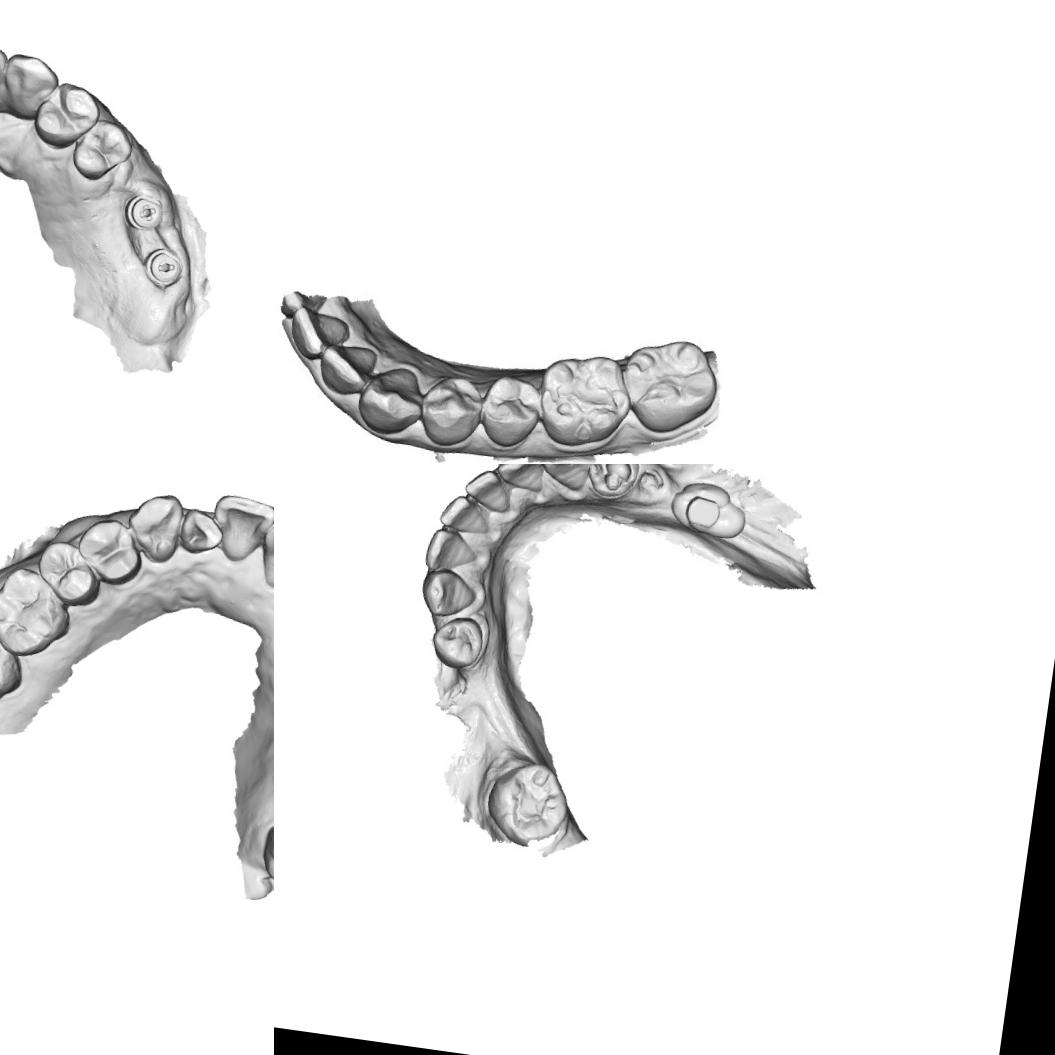canine: (350, 355, 427, 440), (122, 488, 188, 566), (0, 48, 64, 124), (416, 564, 481, 622), (538, 464, 595, 494)
implant_minus: (142, 245, 188, 291)
implant_plus: (120, 188, 168, 236)
incisor: (207, 491, 274, 567), (314, 332, 382, 398), (284, 304, 352, 367), (421, 526, 482, 578), (176, 505, 227, 559), (462, 466, 516, 514), (437, 492, 494, 537), (494, 464, 548, 494), (255, 517, 274, 595), (0, 39, 13, 106)
molar: (532, 343, 633, 453), (615, 332, 718, 431), (481, 755, 576, 854), (0, 561, 78, 662), (666, 476, 751, 542), (0, 611, 31, 714)
premolar: (471, 372, 549, 457), (418, 368, 491, 454), (73, 514, 151, 591), (30, 76, 104, 156), (32, 538, 106, 610), (68, 111, 138, 186), (427, 611, 488, 673), (585, 464, 645, 503)
